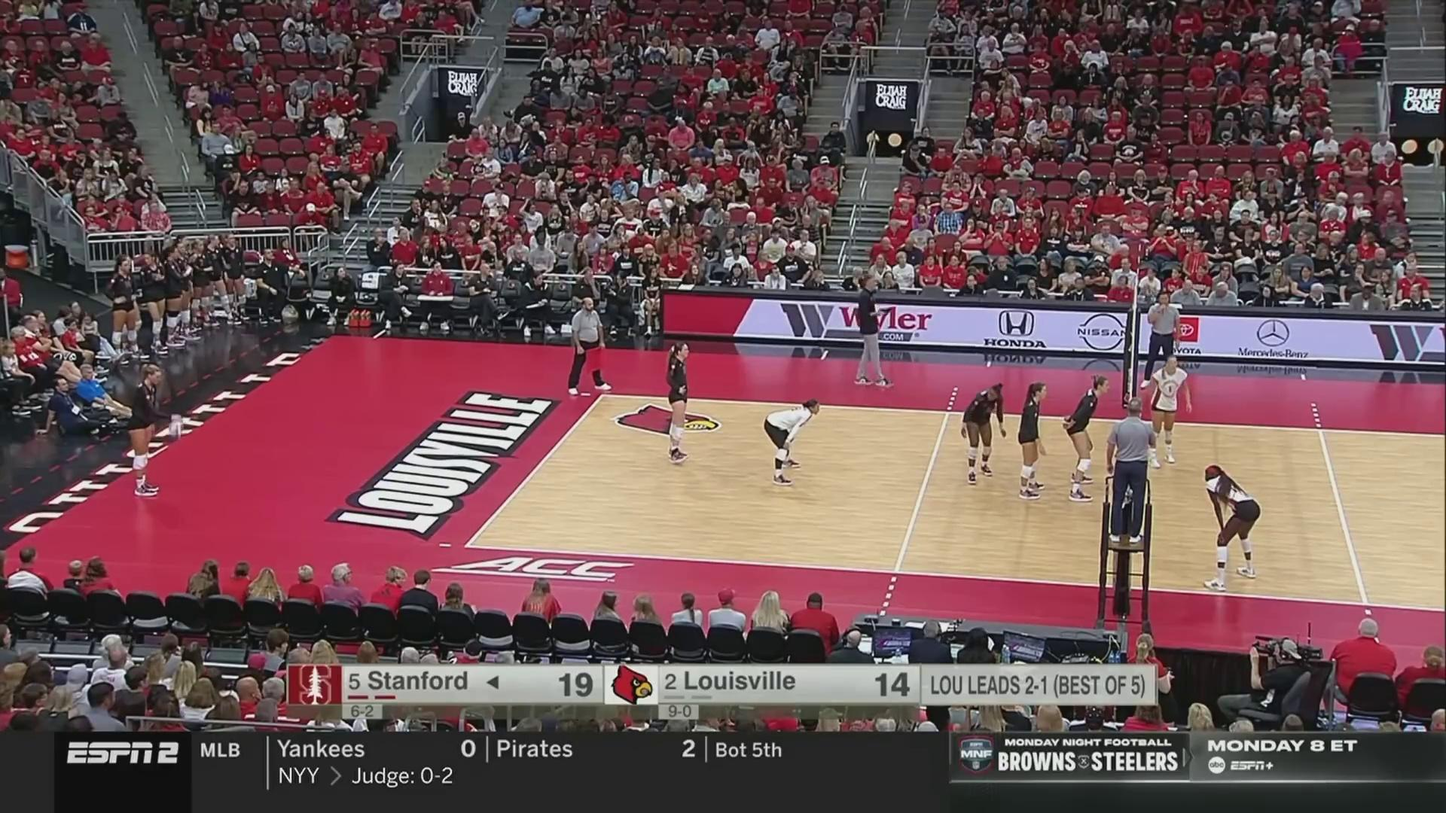player: (1204, 466, 1261, 588), (1061, 377, 1110, 503), (1143, 356, 1193, 469), (130, 364, 170, 498), (958, 382, 1007, 484), (765, 398, 820, 481), (1019, 379, 1050, 501), (665, 341, 692, 464)
refree: (1105, 398, 1156, 533), (1143, 291, 1182, 393), (570, 296, 610, 393)
